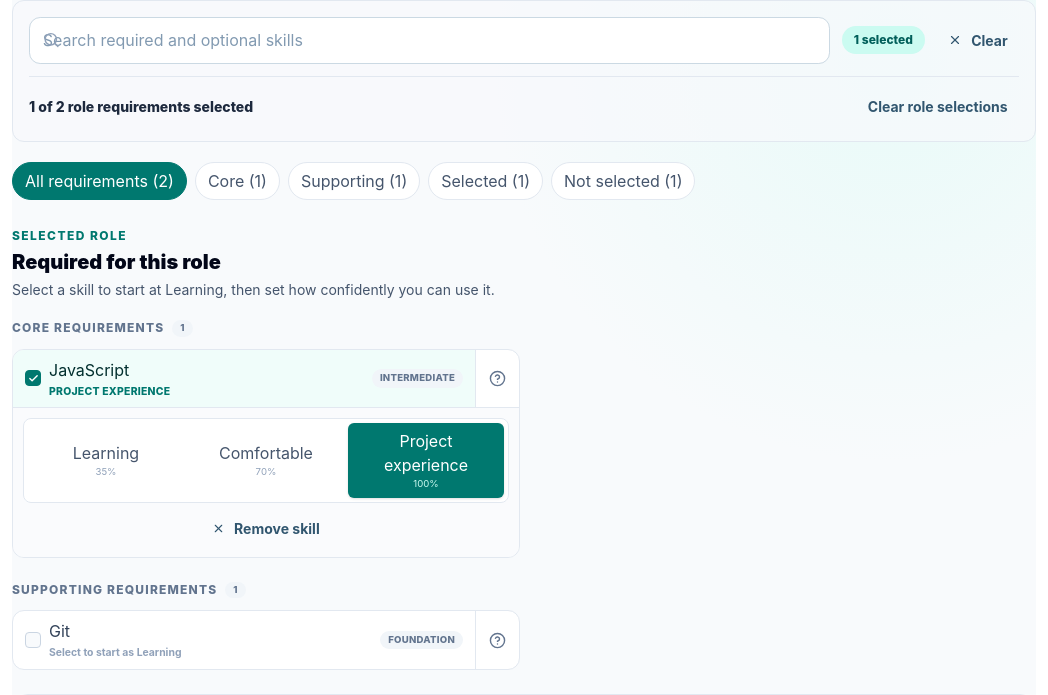
Test: SkillSelector › filters only role requirements with accessible count controls
Click the button "Supporting (1)".
click(354, 181)  # box [288, 162, 420, 200]
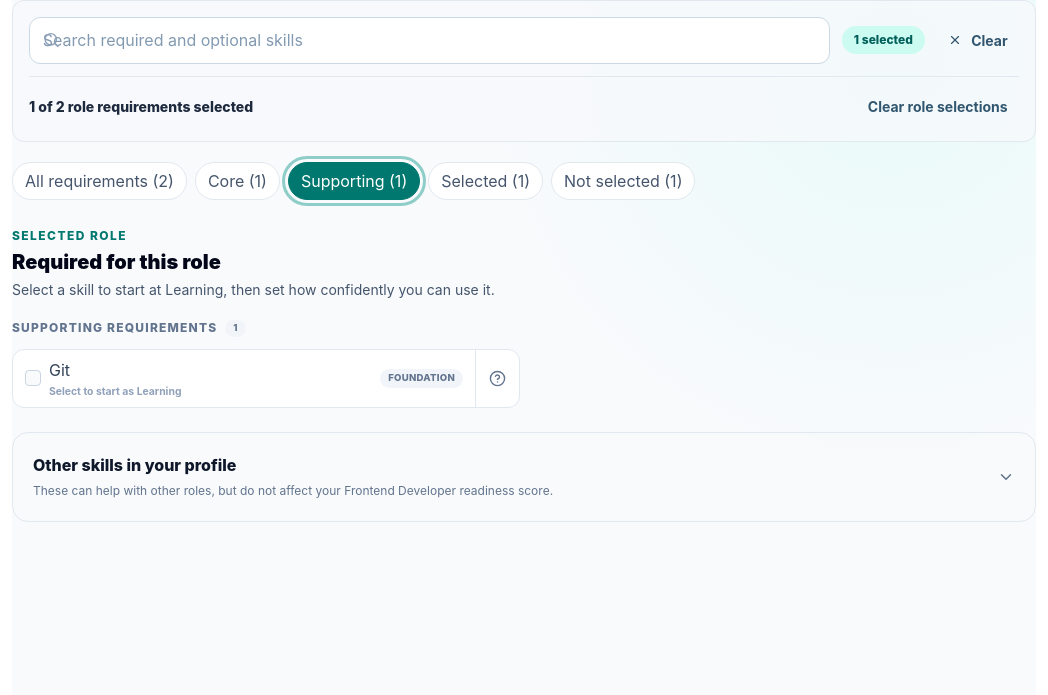
Expected: the checkbox labelled "Git" is shown, [13, 350, 475, 407]
Now the checkbox labelled "JavaScript" is gone
Click the button "Other skills in your profile".
click(135, 465)  # box [13, 433, 1035, 521]
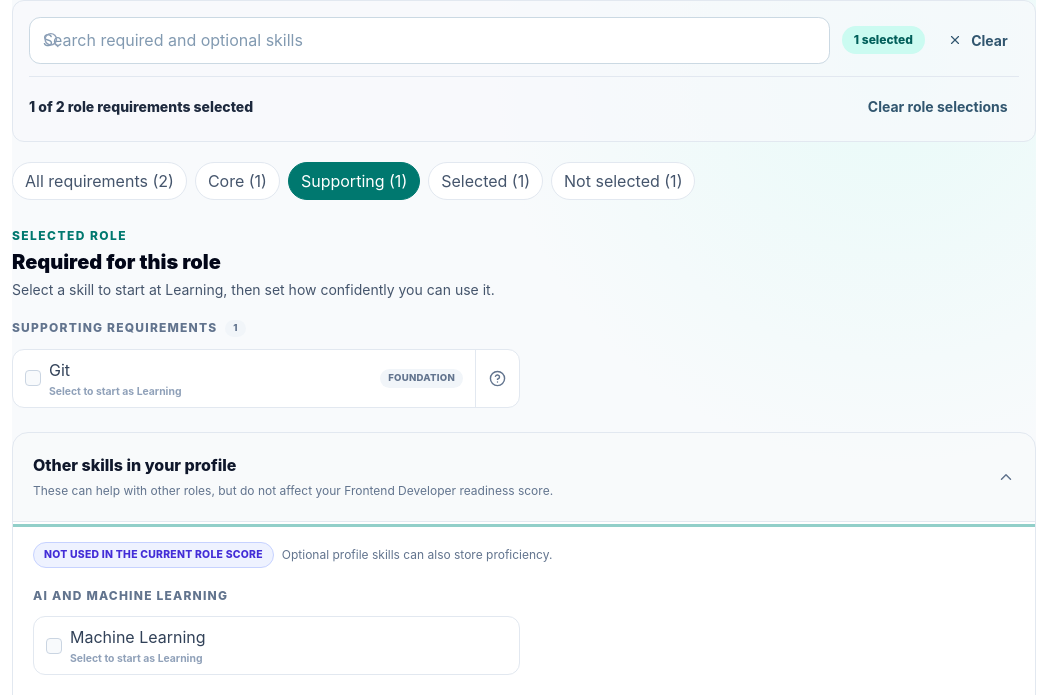
Now the checkbox named "Machine Learning, not used in the current role score" is shown, box [34, 617, 519, 674]
Click the button "Selected (1)".
click(486, 181)  # box [428, 162, 543, 200]
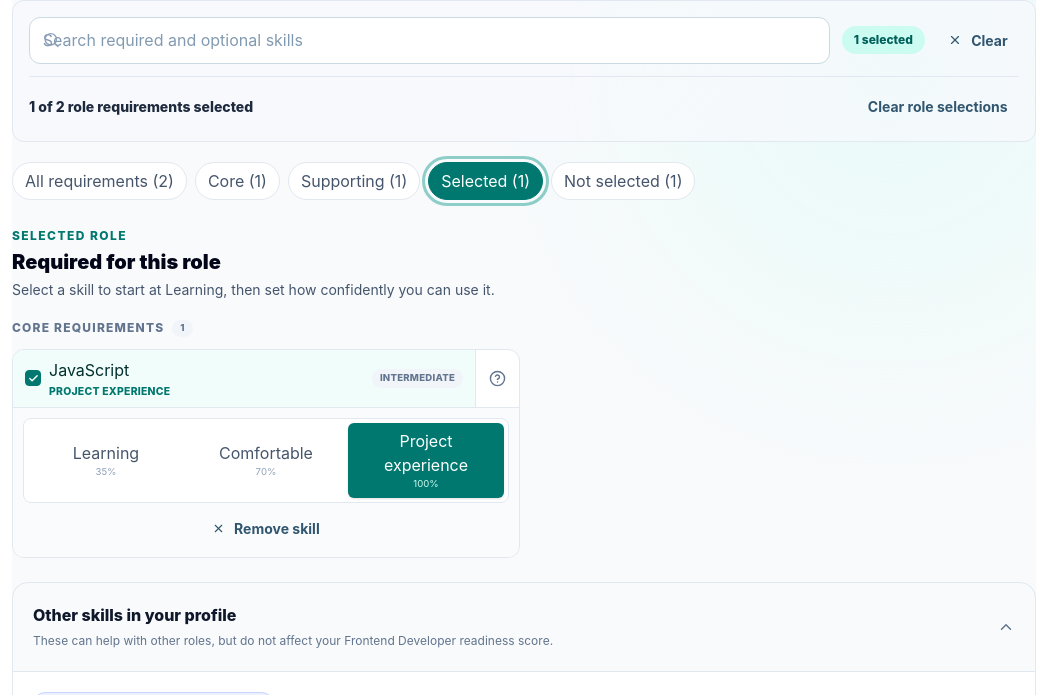
Now the checkbox labelled "JavaScript" is shown, box [13, 350, 475, 407]
Now the checkbox labelled "Git" is gone
